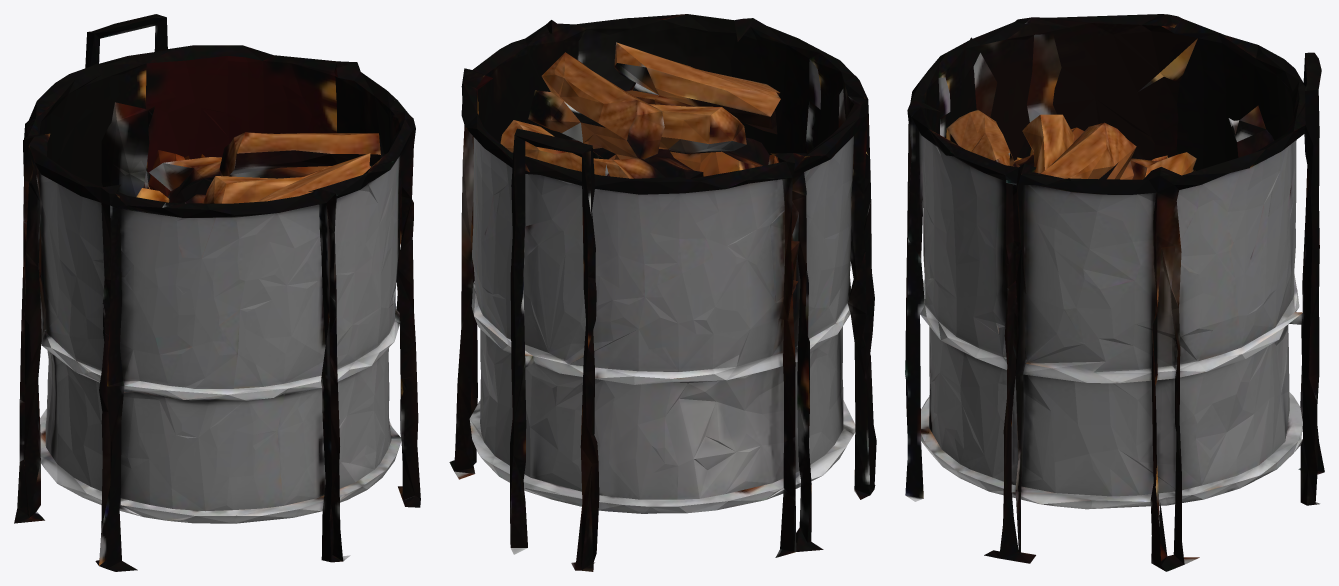
The model's file is bar_fire_barrel.glb.
3 renders of one model, left to right at view 1: azimuth 30°, elevation 25°; view 2: azimuth 150°, elevation 25°; view 3: azimuth 270°, elevation 25°, orthographic. The views are drawn at different scales.
Visible parts, largest first — view 1: bar_fire_barrel_tex; view 2: bar_fire_barrel_tex; view 3: bar_fire_barrel_tex.
Part boxes in pixels (x1,y1,x2,y2): bar_fire_barrel_tex: (14,14,420,571); bar_fire_barrel_tex: (449,14,876,571); bar_fire_barrel_tex: (905,14,1324,571).
Size of the model in its own units: 0.876 by 0.95 by 0.8669.
Materials: 1 (1 with a texture image).
